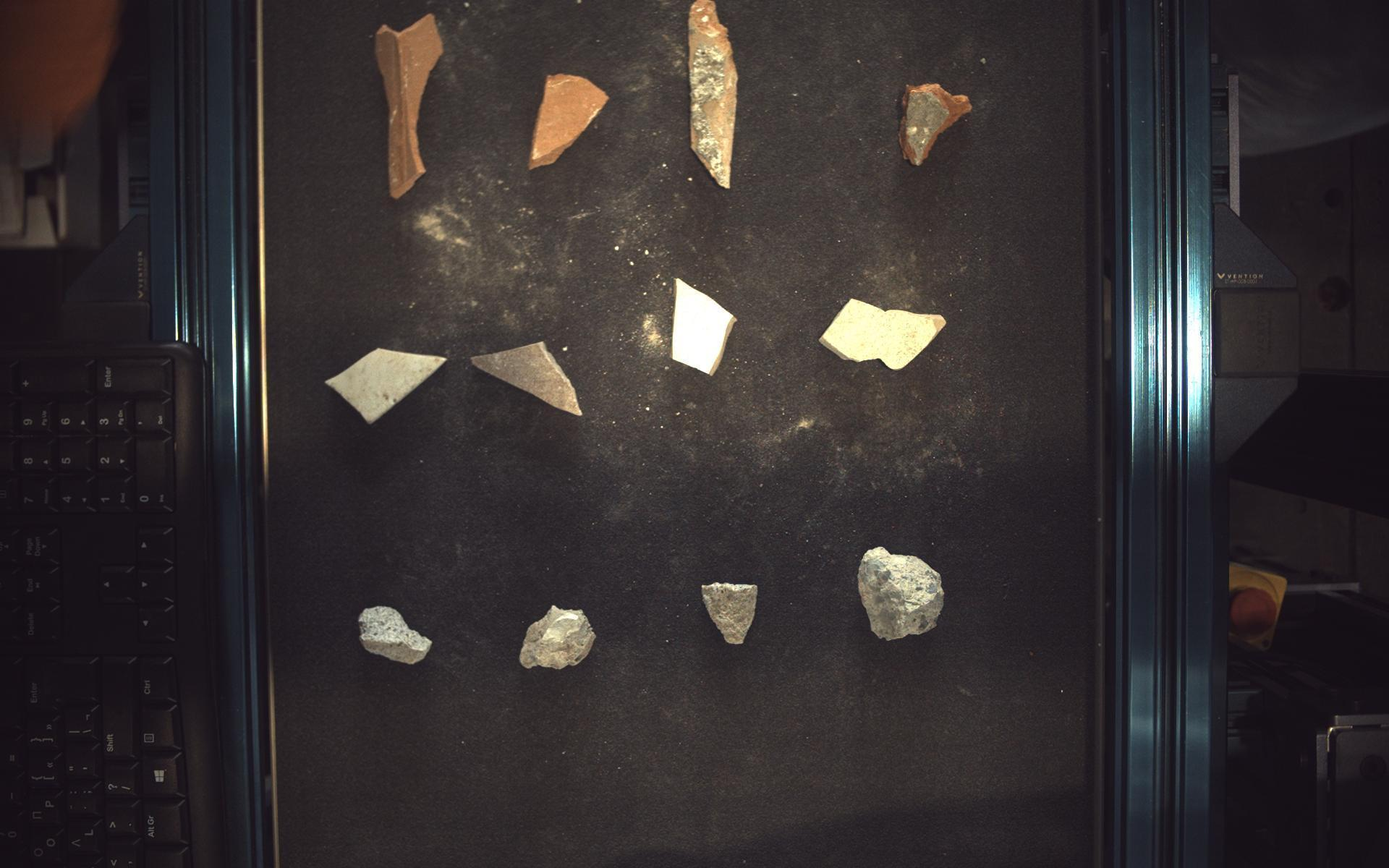brick: (375, 12, 443, 197), (689, 1, 739, 187), (529, 72, 609, 168), (901, 82, 974, 165)
concrete: (859, 548, 946, 641), (519, 606, 596, 671), (358, 607, 432, 665), (704, 583, 758, 645)
tile: (821, 298, 948, 370), (325, 349, 446, 424), (471, 342, 582, 416), (672, 278, 737, 375)
